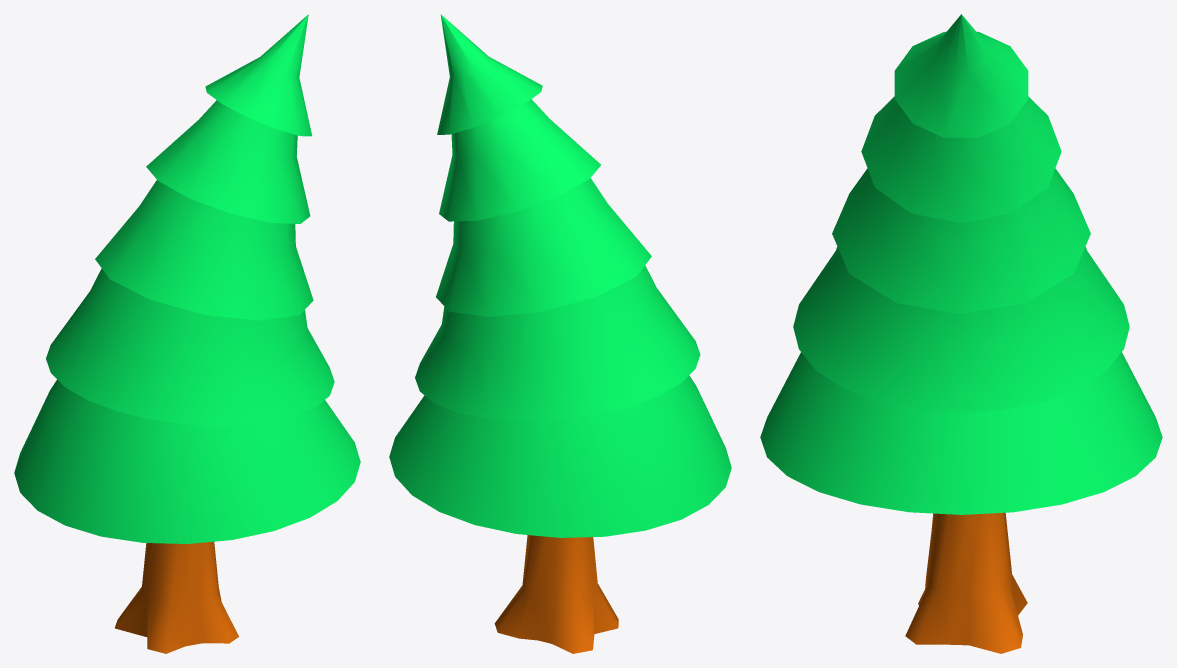
The model's file is SM_Tree_01.fbx.
3 views of the same model, side by side, from view 1: azimuth 30°, elevation 25°; view 2: azimuth 150°, elevation 25°; view 3: azimuth 270°, elevation 25° (orthographic). The views are drawn at different scales.
Parts seen in each view (by area): view 1: Arbre_Feuilles_Low, Arbre_Tronc_Low; view 2: Arbre_Feuilles_Low, Arbre_Tronc_Low; view 3: Arbre_Feuilles_Low, Arbre_Tronc_Low.
Boxes of the visible parts, <box> form: Arbre_Feuilles_Low: <box>14,14,360,543</box>; Arbre_Tronc_Low: <box>115,541,238,653</box>; Arbre_Feuilles_Low: <box>389,14,731,537</box>; Arbre_Tronc_Low: <box>494,535,618,653</box>; Arbre_Feuilles_Low: <box>760,14,1162,514</box>; Arbre_Tronc_Low: <box>905,512,1027,653</box>.
Size of the model in its own units: 167 by 313 by 167.
